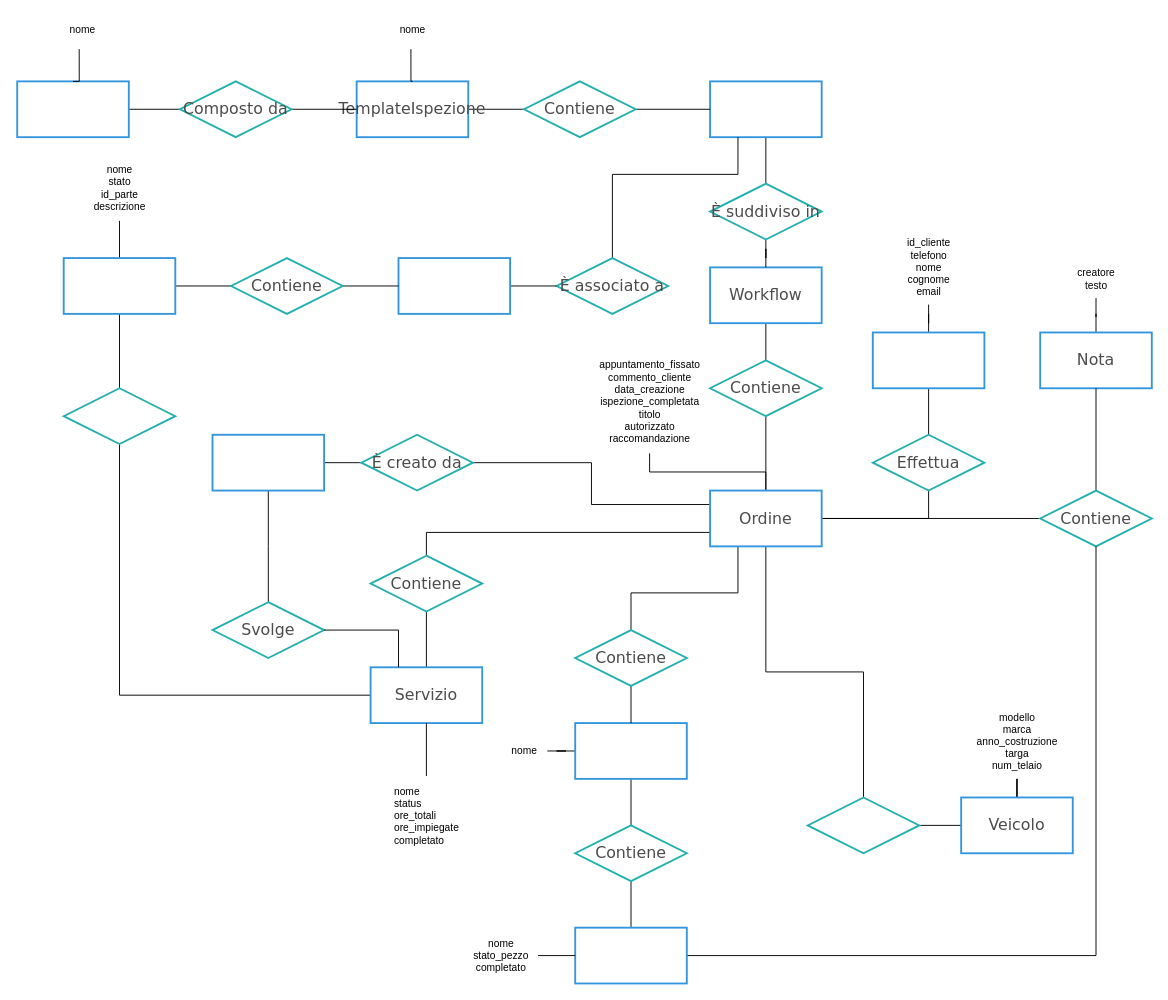
This 1168x1000 diagram has some shape labels left out. Each missing label, with the centre of its shape:
"Cliente" goes at point (928, 360).
"Dipendente" goes at point (268, 462).
"Fa uso di" goes at point (119, 416).
"Ispezione" goes at point (630, 750).
"Job" goes at point (630, 955).
"Magazzino" goes at point (454, 285).
"Opera su" goes at point (863, 825).
"Parte" goes at point (119, 285).
"Shop" goes at point (765, 109).
"TemplateJob" goes at point (72, 109).
